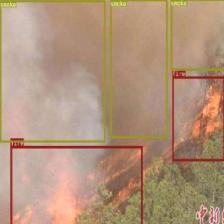fire: (10, 145, 142, 224), (171, 76, 224, 160)
smoke: (0, 0, 105, 142), (110, 0, 167, 138), (170, 0, 224, 70)
